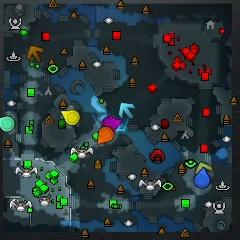p1: (194, 168, 210, 189)
p2: (0, 115, 16, 132)
p3: (102, 115, 123, 131)
p4: (60, 110, 80, 126)
p5: (97, 126, 114, 145)
x2: (195, 162, 212, 173)
x3: (119, 102, 135, 119)
x5: (27, 45, 44, 63)
